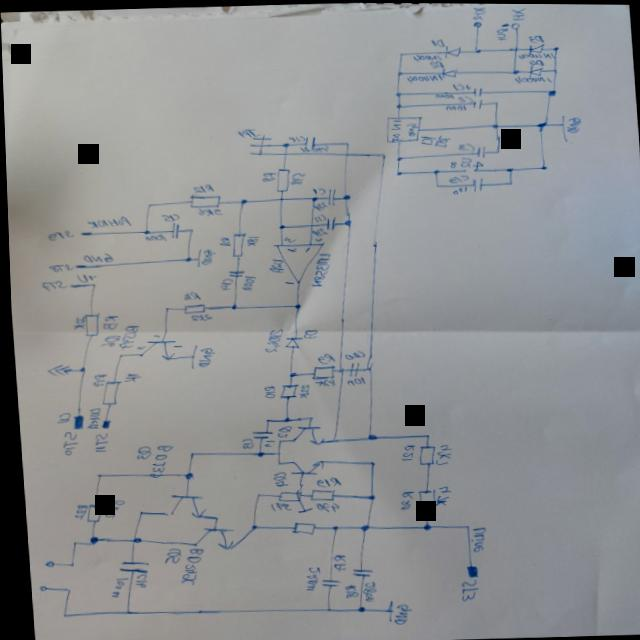capacitor: (112, 558, 143, 573), (461, 81, 484, 96), (246, 428, 270, 438), (301, 133, 316, 149), (343, 360, 357, 375), (324, 187, 335, 206), (469, 95, 485, 108), (165, 221, 178, 237), (468, 175, 481, 190), (314, 576, 334, 585), (323, 215, 335, 229), (224, 267, 242, 276), (473, 144, 485, 157)
crossover: (333, 365, 341, 373), (340, 149, 349, 156), (511, 44, 519, 50), (275, 194, 283, 200), (279, 149, 287, 155), (305, 220, 312, 226)
diode: (442, 43, 463, 58), (280, 334, 301, 348), (439, 66, 461, 77), (525, 63, 543, 76), (527, 41, 544, 53)
ground: (184, 342, 198, 367), (556, 113, 568, 141), (380, 598, 389, 620), (192, 246, 201, 266)
junction: (83, 534, 95, 543), (340, 217, 351, 226), (126, 534, 138, 542), (362, 431, 374, 439), (350, 602, 361, 610), (178, 470, 189, 478), (534, 119, 544, 127), (354, 522, 365, 529), (416, 521, 426, 528), (289, 300, 299, 307), (226, 301, 236, 308), (251, 448, 261, 455), (544, 87, 555, 93), (181, 254, 190, 261), (339, 192, 349, 198), (278, 140, 288, 146), (183, 448, 191, 455), (392, 153, 401, 159), (274, 221, 283, 227), (488, 120, 497, 126), (393, 101, 402, 107), (237, 196, 246, 202), (284, 369, 293, 375), (74, 365, 83, 371), (362, 492, 371, 498), (471, 45, 480, 51), (430, 166, 437, 173), (537, 162, 545, 168), (393, 89, 401, 95), (89, 470, 97, 476), (55, 610, 63, 616), (245, 521, 253, 527), (58, 585, 66, 591), (392, 168, 400, 174), (510, 66, 518, 72), (503, 164, 511, 170), (308, 194, 316, 200), (326, 523, 334, 529), (551, 43, 559, 49), (140, 227, 148, 233), (63, 560, 70, 566), (66, 538, 73, 544), (364, 459, 372, 464), (132, 508, 140, 513), (118, 608, 126, 613), (362, 363, 368, 369), (327, 435, 333, 441), (419, 431, 426, 436), (185, 226, 192, 231), (260, 416, 266, 421), (114, 351, 120, 356), (459, 522, 465, 527), (88, 280, 94, 285), (319, 605, 326, 609), (396, 49, 403, 53), (341, 139, 348, 143), (207, 514, 214, 518), (304, 415, 311, 419), (144, 201, 150, 205), (492, 148, 498, 152), (160, 305, 166, 309), (251, 490, 257, 494), (505, 178, 511, 182), (491, 99, 497, 103), (378, 151, 384, 155), (271, 449, 277, 453), (280, 416, 286, 420), (432, 181, 438, 185), (550, 66, 556, 70), (273, 438, 279, 442), (272, 459, 278, 463)
resistor: (271, 488, 307, 512), (96, 378, 120, 404), (77, 310, 99, 337), (226, 229, 247, 257), (185, 192, 220, 207), (270, 166, 290, 191), (411, 486, 432, 506), (78, 501, 99, 520), (307, 363, 333, 378), (413, 442, 431, 463), (286, 519, 312, 533), (305, 486, 331, 499), (276, 381, 295, 398), (179, 301, 204, 313)
source: (42, 361, 68, 376), (344, 565, 369, 576)
switch: (244, 130, 272, 155)
terminal: (68, 413, 82, 428), (459, 563, 474, 576), (97, 417, 108, 428), (508, 19, 519, 28), (39, 559, 50, 567), (32, 583, 43, 590), (470, 19, 482, 25), (70, 262, 78, 268), (76, 229, 84, 234), (65, 281, 71, 287), (459, 167, 465, 171), (470, 166, 476, 169)
text: (140, 440, 174, 478), (172, 543, 202, 586), (83, 212, 131, 229), (306, 249, 328, 284), (54, 427, 76, 455), (116, 322, 138, 347), (259, 325, 279, 352), (86, 429, 108, 453), (97, 496, 121, 518), (417, 131, 449, 147), (103, 575, 125, 597), (386, 599, 406, 623), (465, 523, 482, 551), (80, 404, 98, 430), (192, 345, 214, 366), (298, 563, 316, 588), (401, 71, 446, 81), (454, 578, 475, 599), (429, 441, 448, 464), (429, 482, 448, 505), (44, 226, 73, 241), (77, 250, 112, 262), (393, 487, 411, 508), (127, 570, 146, 589), (129, 442, 148, 461), (410, 50, 442, 61), (515, 49, 554, 58), (511, 72, 550, 81), (562, 114, 581, 132), (157, 545, 177, 562), (37, 277, 65, 289), (356, 578, 371, 600), (394, 441, 412, 459), (493, 20, 510, 39), (192, 205, 221, 216), (44, 260, 73, 271), (70, 269, 96, 281), (232, 124, 258, 136), (309, 500, 337, 511), (96, 332, 118, 346), (264, 256, 282, 273), (325, 551, 343, 568), (196, 247, 214, 264), (309, 475, 336, 486), (296, 143, 328, 152), (311, 351, 333, 364), (49, 410, 69, 424), (263, 499, 288, 510), (452, 140, 477, 151), (140, 231, 165, 242), (337, 582, 355, 597), (178, 289, 200, 301), (69, 502, 85, 518), (469, 3, 485, 19), (99, 314, 116, 329), (287, 169, 304, 184), (268, 468, 283, 485), (189, 181, 212, 192), (282, 132, 309, 141), (445, 172, 467, 183), (88, 370, 104, 385), (442, 101, 468, 110), (341, 374, 364, 384), (240, 274, 254, 290), (509, 5, 525, 19), (387, 118, 401, 134), (271, 423, 287, 437), (311, 376, 333, 386), (340, 348, 362, 358), (68, 314, 83, 328), (119, 370, 138, 381), (427, 34, 443, 47), (308, 184, 331, 193), (188, 312, 210, 321), (157, 211, 179, 220), (404, 121, 418, 135), (216, 275, 231, 288), (299, 327, 316, 338), (258, 169, 275, 180), (259, 383, 272, 397), (525, 32, 544, 41), (448, 184, 467, 193), (295, 383, 307, 397), (243, 233, 257, 245), (236, 435, 250, 447), (456, 155, 471, 166), (309, 225, 327, 234), (455, 93, 472, 102), (215, 235, 230, 245), (310, 199, 326, 208), (526, 57, 542, 66), (432, 91, 452, 98), (281, 235, 296, 243), (312, 212, 326, 220), (450, 82, 464, 90), (427, 60, 442, 67), (284, 245, 297, 253), (259, 437, 271, 445), (389, 132, 400, 140), (446, 158, 457, 166), (168, 342, 180, 348), (471, 160, 481, 166), (132, 342, 142, 348), (148, 331, 158, 337), (311, 235, 320, 241), (279, 278, 292, 282), (302, 245, 308, 250)
transistor: (186, 520, 234, 552), (159, 490, 203, 520), (133, 337, 175, 360), (287, 423, 321, 444), (284, 457, 321, 474)
